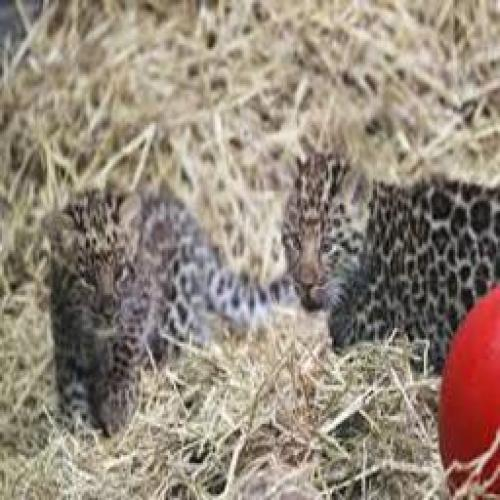amur_leopard-endangered: (32, 182, 290, 440), (277, 147, 500, 367)
